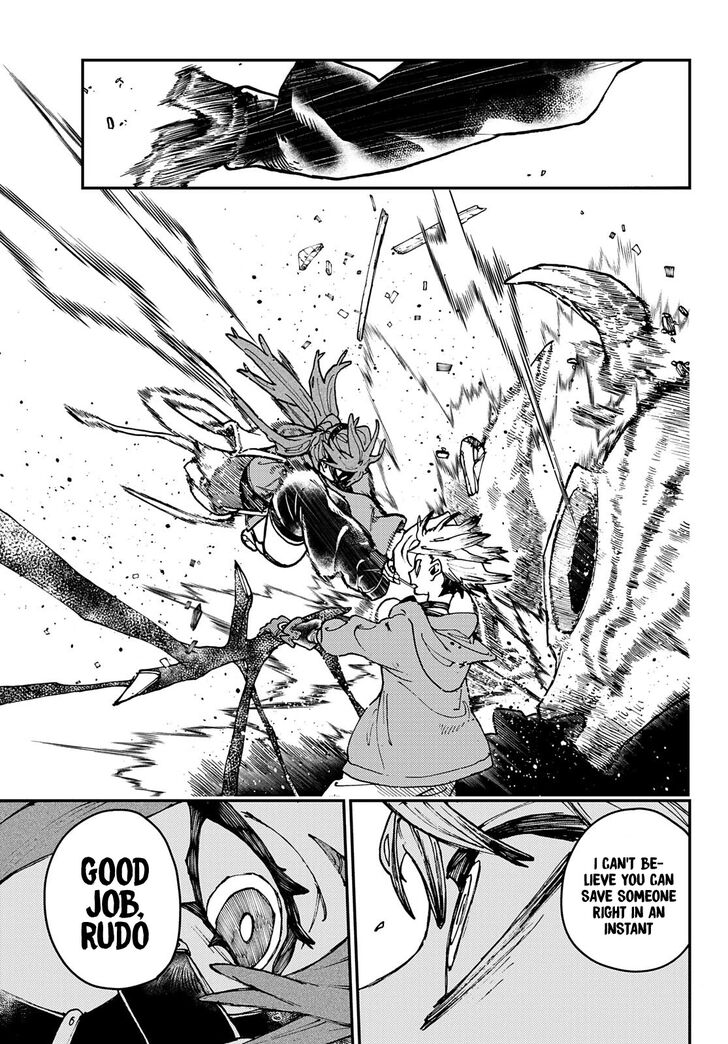bubble: (44, 810, 181, 990), (561, 809, 690, 971)
